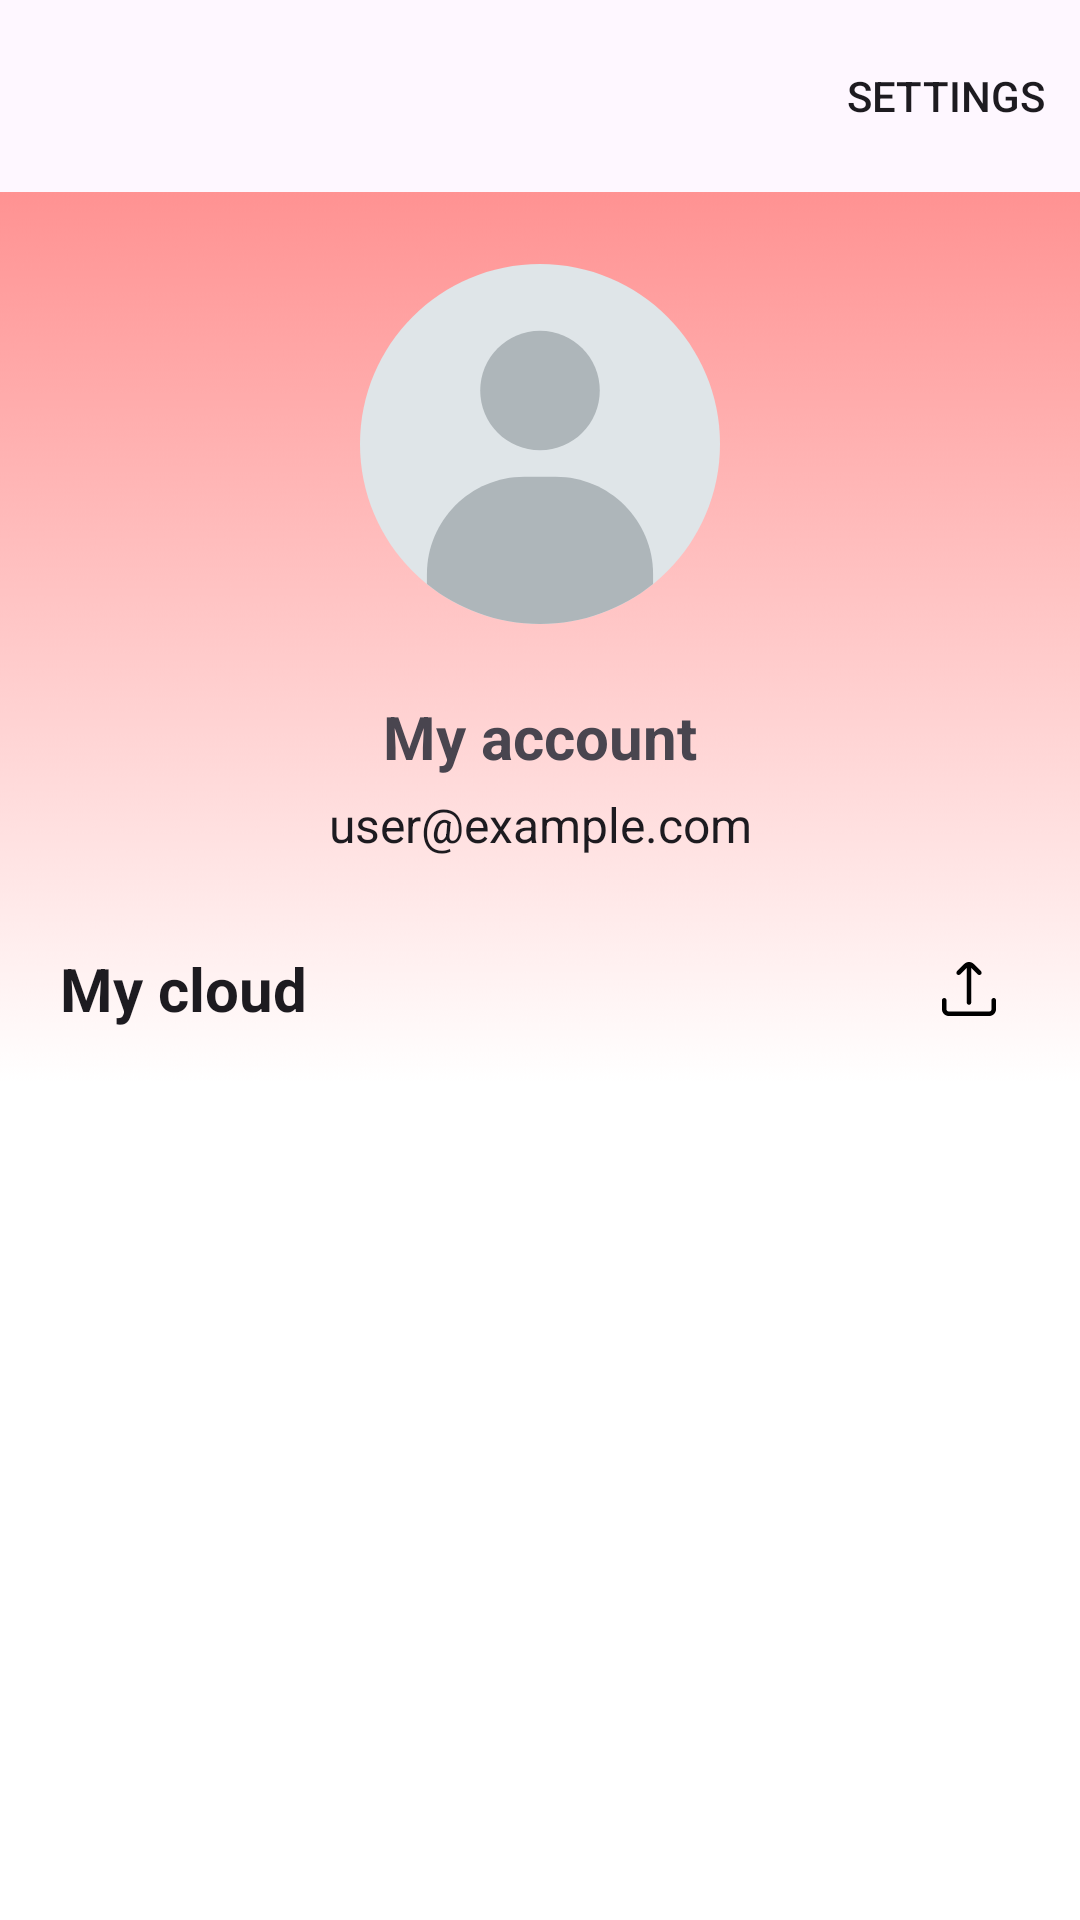

Where to tap for icons on this 1080 x 1920 app screen, as (x=x, y=y):
Profile image: (x=540, y=444)
